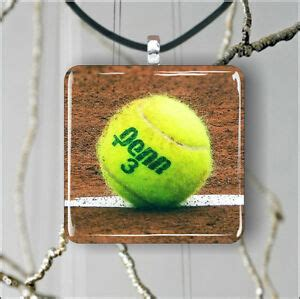tennis_ball: (98, 94, 211, 211)
